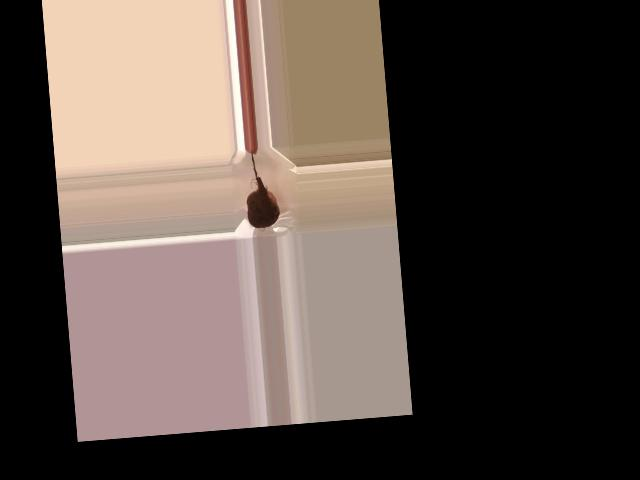beet: (242, 150, 281, 229)
